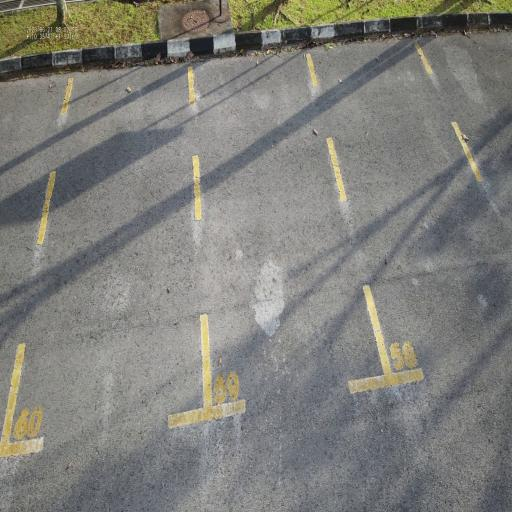Empty: (0, 56, 219, 465), (183, 47, 397, 428)
